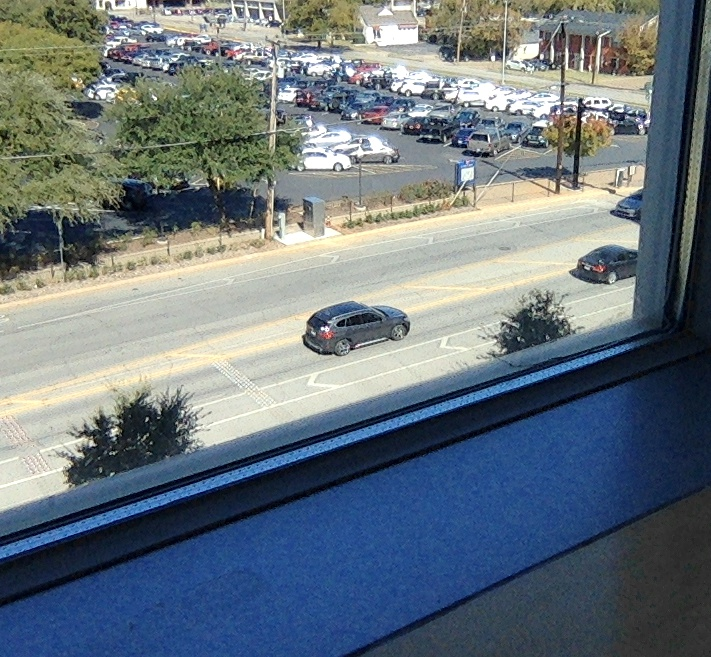car: (300, 300, 411, 357)
